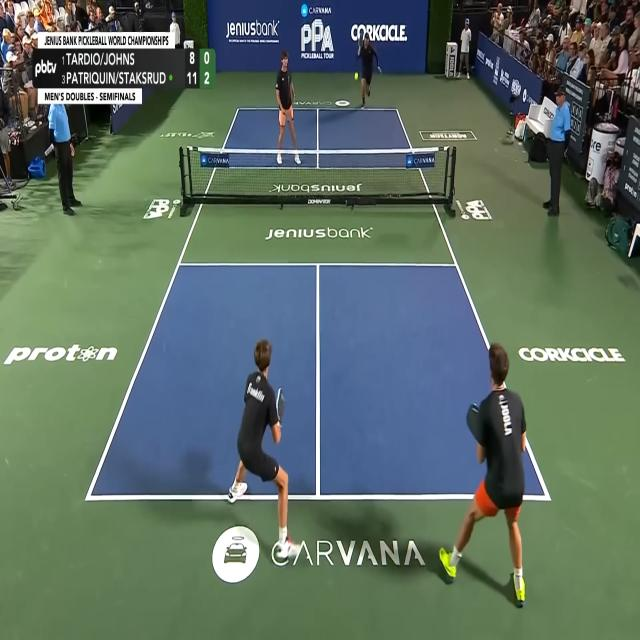ball: (354, 70, 359, 82)
